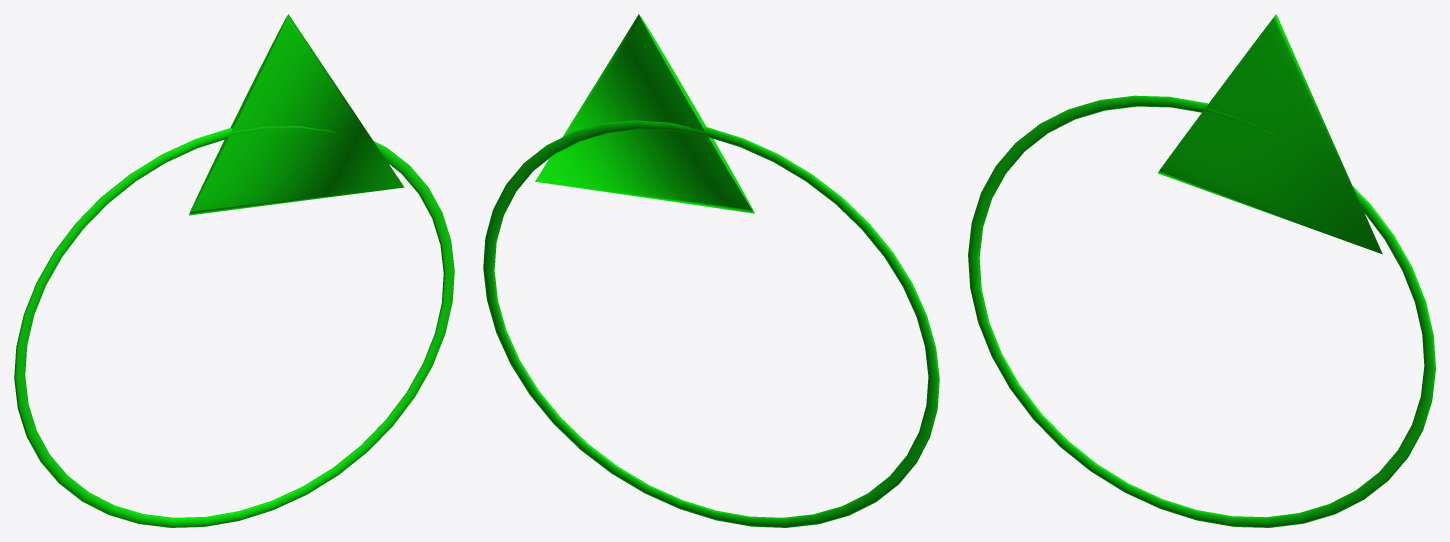
The model's file is restart.fbx.
3 views of the same model, side by side, from view 1: azimuth 30°, elevation 25°; view 2: azimuth 150°, elevation 25°; view 3: azimuth 330°, elevation 25° (orthographic). The views are drawn at different scales.
Visible parts, largest first — view 1: polySurface1; view 2: polySurface1; view 3: polySurface1.
Part boxes in pixels (<box>): polySurface1: <box>14,14,454,527</box>; polySurface1: <box>483,14,939,527</box>; polySurface1: <box>968,14,1435,527</box>.
Size of the model in its own units: 13 by 13.61 by 0.7238.
